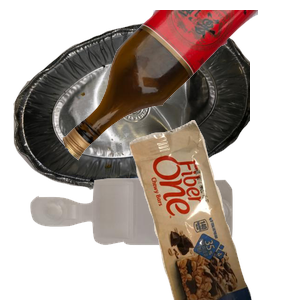glass: (60, 10, 300, 163)
metal: (11, 20, 251, 200)
plastic: (28, 176, 253, 300)
trash: (127, 120, 300, 300)
